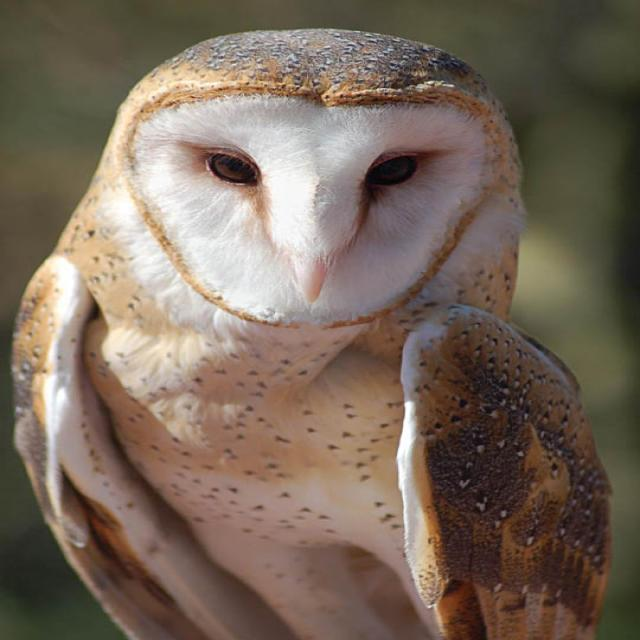Owl: (14, 32, 604, 640)
